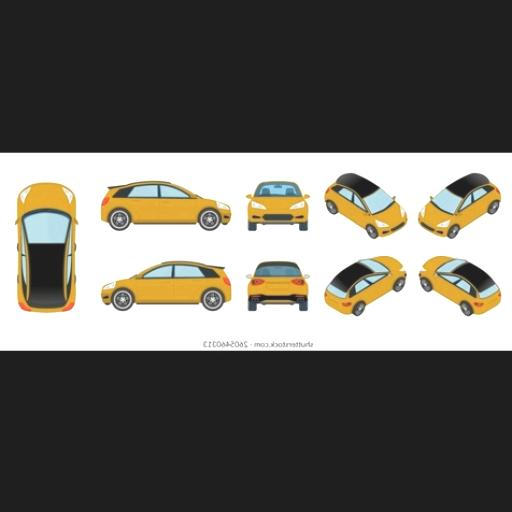hatchback: (18, 183, 76, 310), (101, 261, 231, 310), (101, 183, 231, 230), (325, 172, 408, 238), (421, 172, 502, 238), (421, 255, 502, 314), (325, 255, 407, 313), (247, 182, 310, 230), (248, 262, 310, 310)
